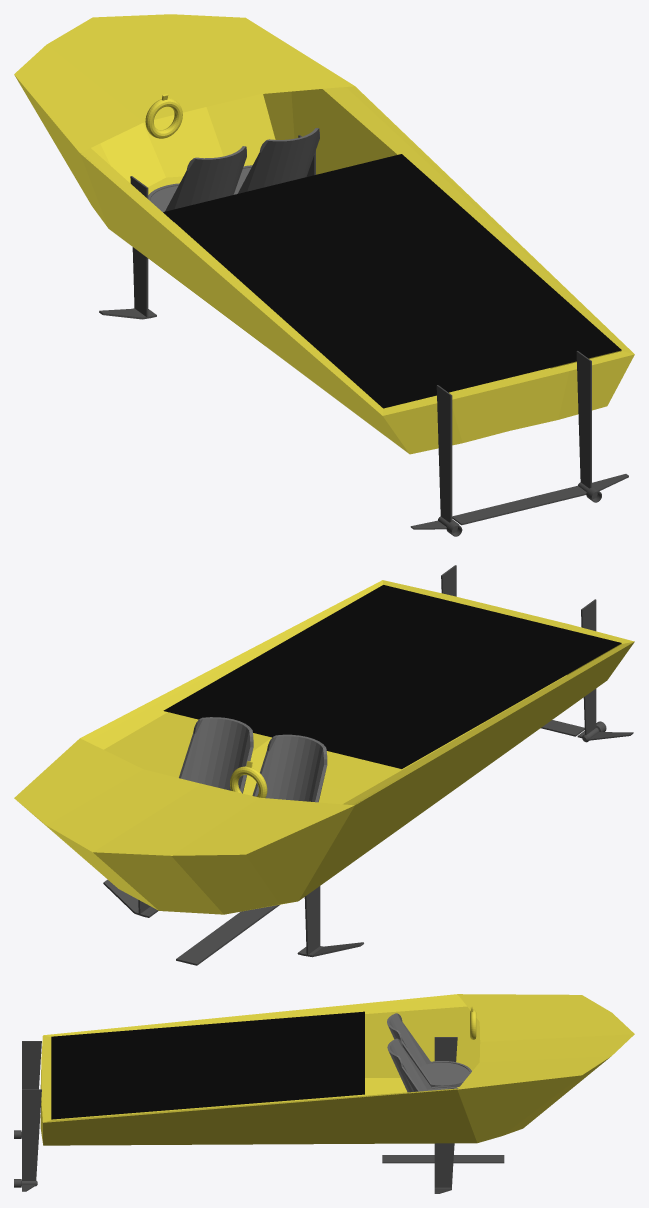
File: boat_2.fbx
3 views of the same model, one above another, from view 1: azimuth 30°, elevation 25°; view 2: azimuth 150°, elevation 25°; view 3: azimuth 270°, elevation 25° (orthographic). The views are drawn at different scales.
Visible parts, largest first — view 1: hull, front_foil_support, rear_foil, left_rudder, right_rudder, right_engine, left_engine; view 2: hull, front_foil_support, front_foil, left_engine; view 3: hull, front_foil_support, right_rudder, front_foil, right_engine, left_rudder, left_engine.
Part boxes in pixels (<box>): hull: <box>14,14,634,454</box>; front_foil_support: <box>99,135,315,319</box>; rear_foil: <box>452,486,585,525</box>; left_rudder: <box>437,407,452,502</box>; right_rudder: <box>577,373,591,467</box>; right_engine: <box>574,351,628,502</box>; left_engine: <box>410,385,462,536</box>; hull: <box>14,580,634,914</box>; front_foil_support: <box>103,879,363,957</box>; front_foil: <box>176,904,279,965</box>; left_engine: <box>577,599,633,742</box>; hull: <box>40,994,634,1145</box>; front_foil_support: <box>434,1037,457,1193</box>; right_rudder: <box>22,1105,40,1165</box>; front_foil: <box>382,1155,504,1163</box>; right_engine: <box>14,1089,41,1191</box>; left_rudder: <box>22,1056,40,1089</box>; left_engine: <box>14,1041,41,1138</box>.
Size of the model in its own units: 184 by 127 by 505.
